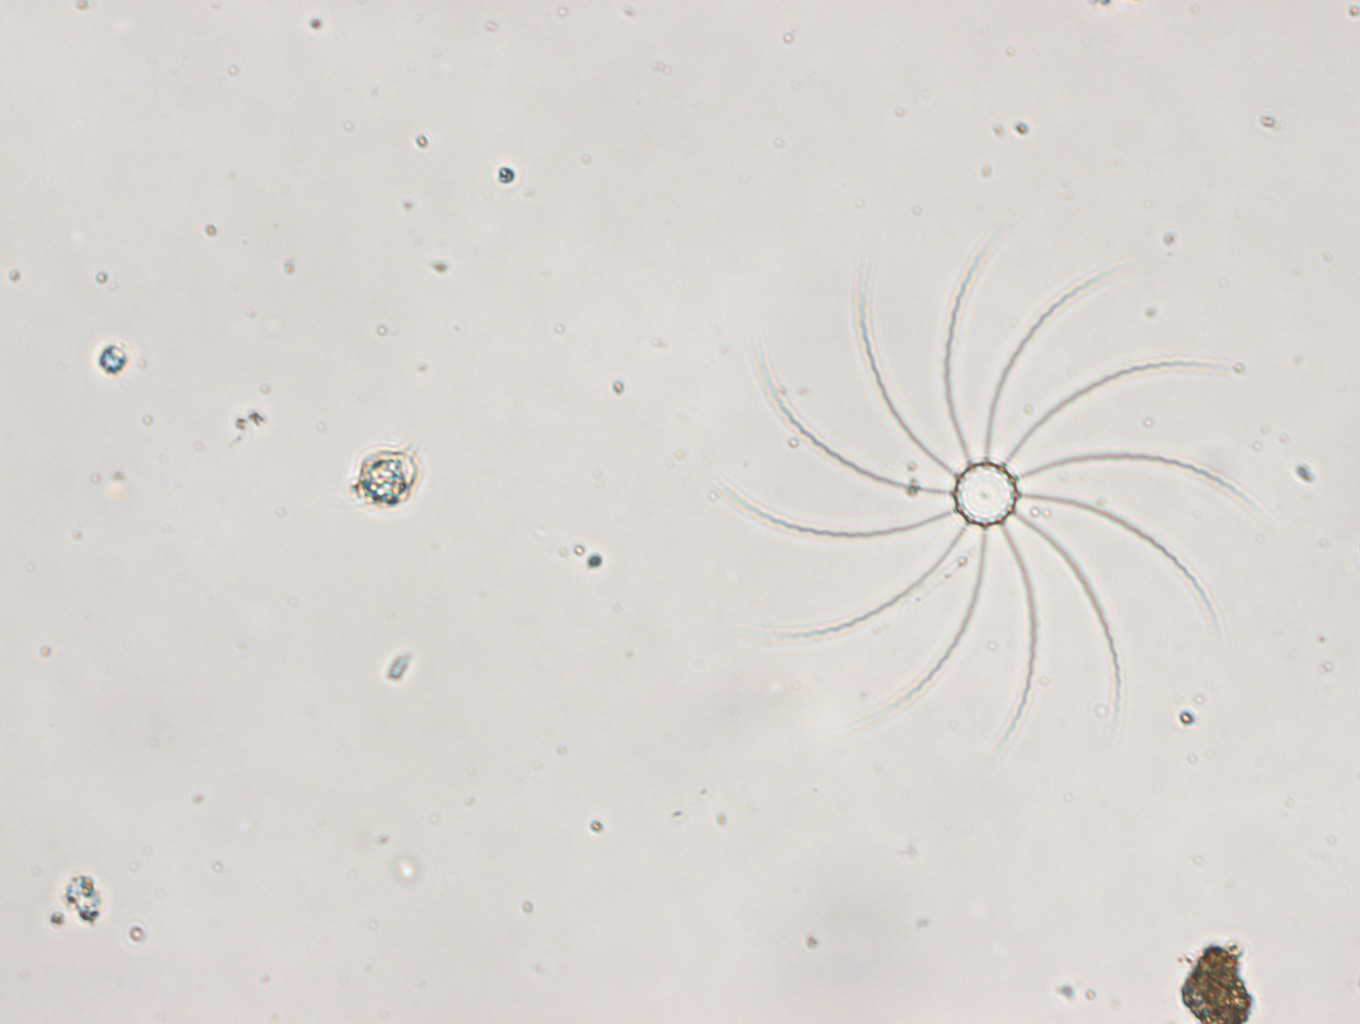bacteriastrum: (745, 251, 1263, 736)
